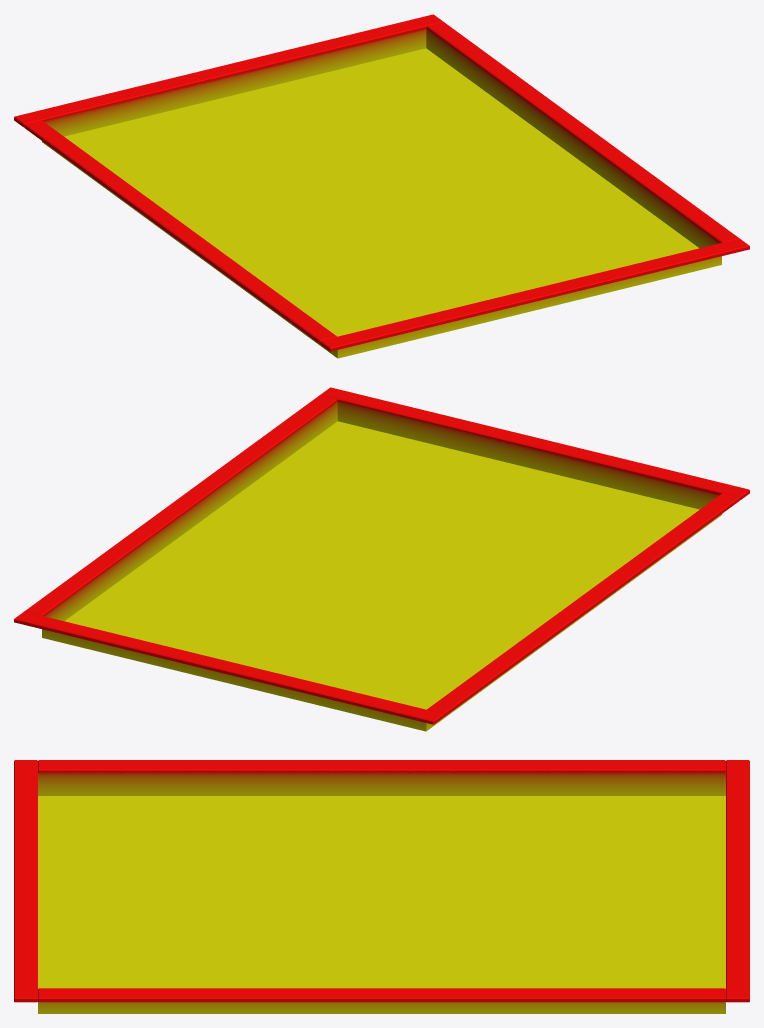
File: SM_Env_PoolBasin.fbx
3 views of the same model, one above another, from view 1: azimuth 30°, elevation 25°; view 2: azimuth 150°, elevation 25°; view 3: azimuth 270°, elevation 25° (orthographic). The views are drawn at different scales.
Visible parts, largest first — view 1: SM_Env_PoolBasin; view 2: SM_Env_PoolBasin; view 3: SM_Env_PoolBasin.
Part boxes in pixels (bbox=[...]): SM_Env_PoolBasin: bbox=[14, 14, 749, 358]; SM_Env_PoolBasin: bbox=[14, 387, 749, 731]; SM_Env_PoolBasin: bbox=[14, 760, 749, 1013].
Size of the model in its own units: 6.56 by 0.335 by 8.56.
